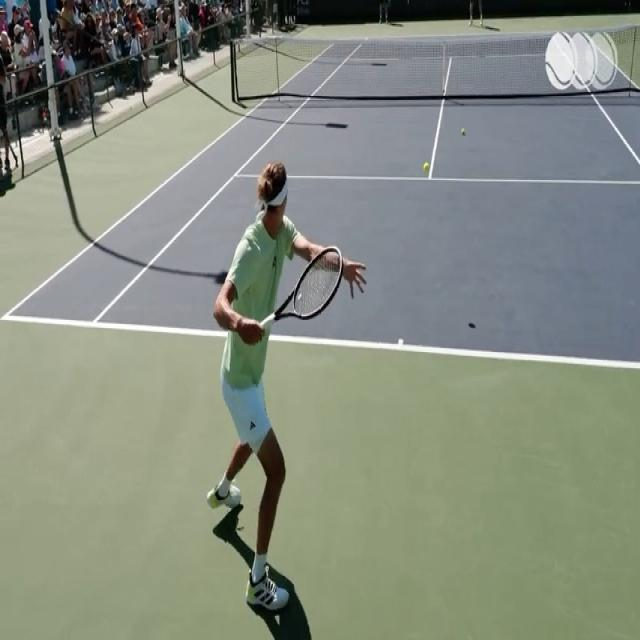forehand-ready: (209, 155, 357, 616)
